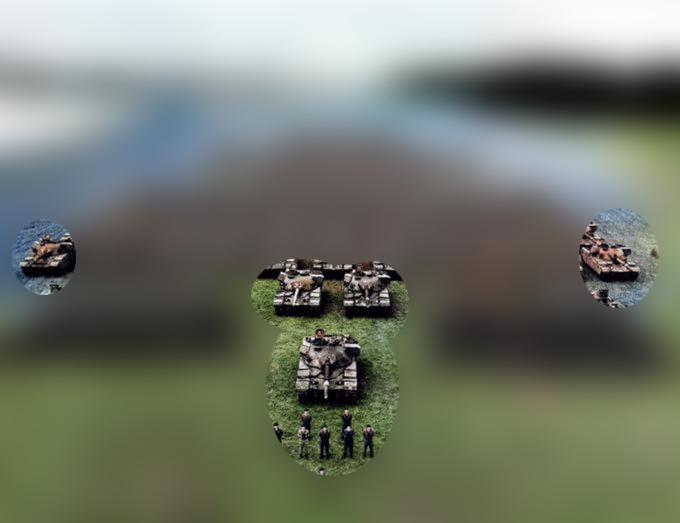tank: (296, 327, 360, 406), (265, 263, 330, 316), (578, 232, 646, 279), (341, 262, 397, 314), (19, 232, 77, 278)
